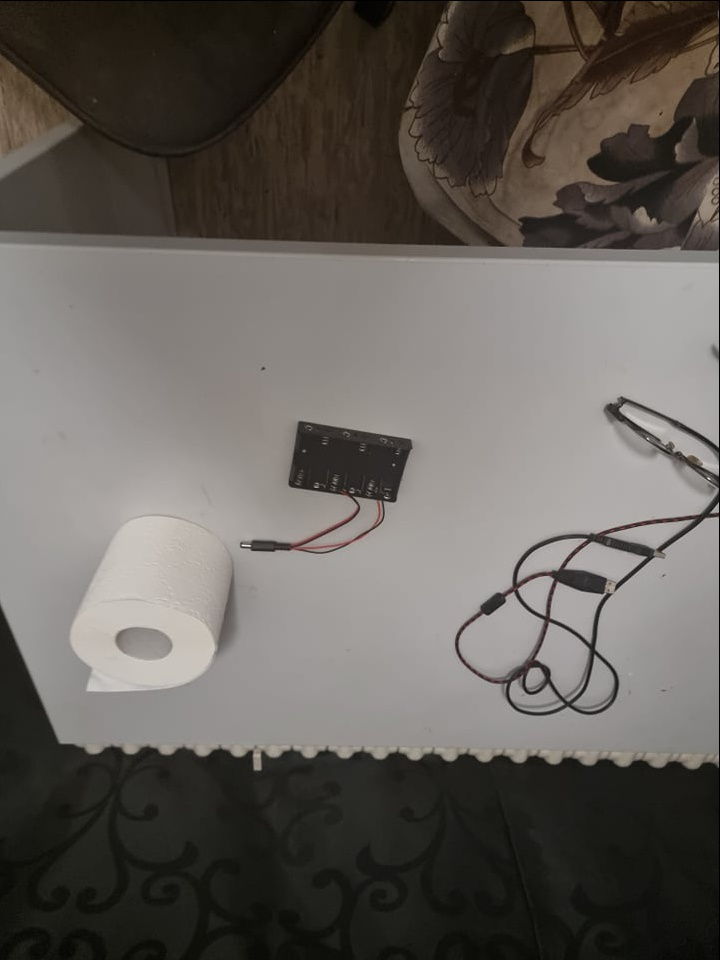BATTERY BOX: (281, 419, 417, 498)
